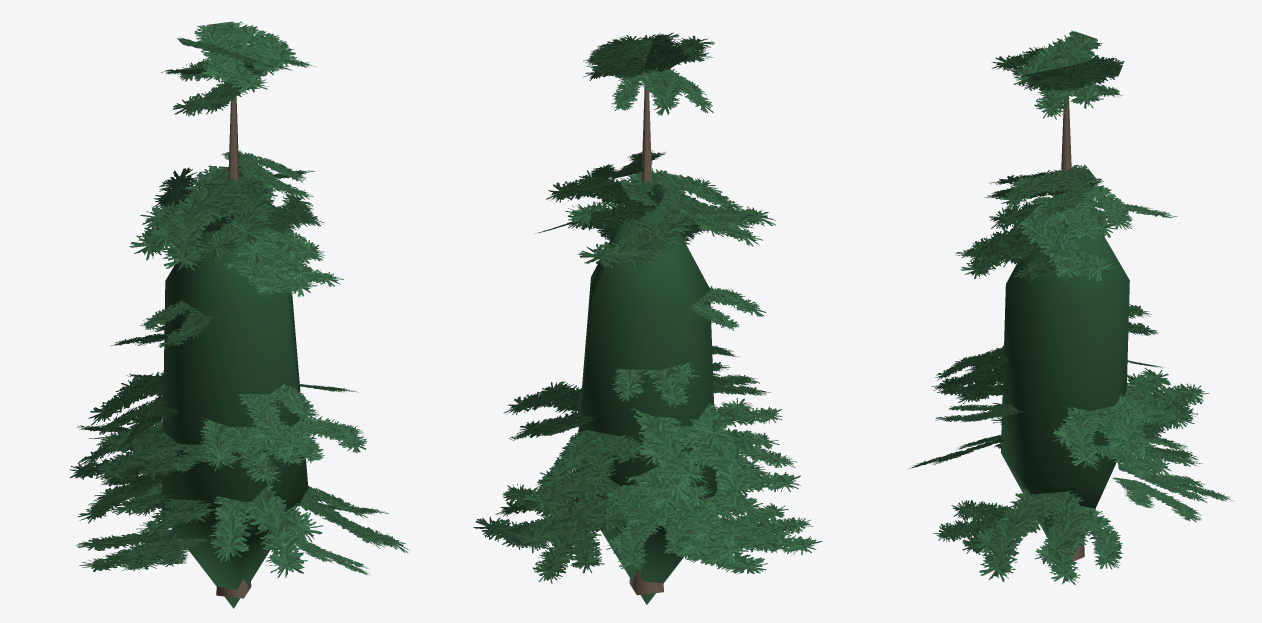
Rendered from PICEA_2.glb.
3 renders of one model, left to right at view 1: azimuth 30°, elevation 25°; view 2: azimuth 150°, elevation 25°; view 3: azimuth 270°, elevation 25°, orthographic. The views are drawn at different scales.
Parts seen in each view (by area): view 1: Arv_PICEA_lod2; view 2: Arv_PICEA_lod2; view 3: Arv_PICEA_lod2.
Boxes of the visible parts, <box> form: Arv_PICEA_lod2: <box>69,21,409,608</box>; Arv_PICEA_lod2: <box>473,32,822,604</box>; Arv_PICEA_lod2: <box>908,30,1234,584</box>.
Size of the model in its own units: 6.66 by 10.24 by 6.45.
3 materials, 1 textured.
